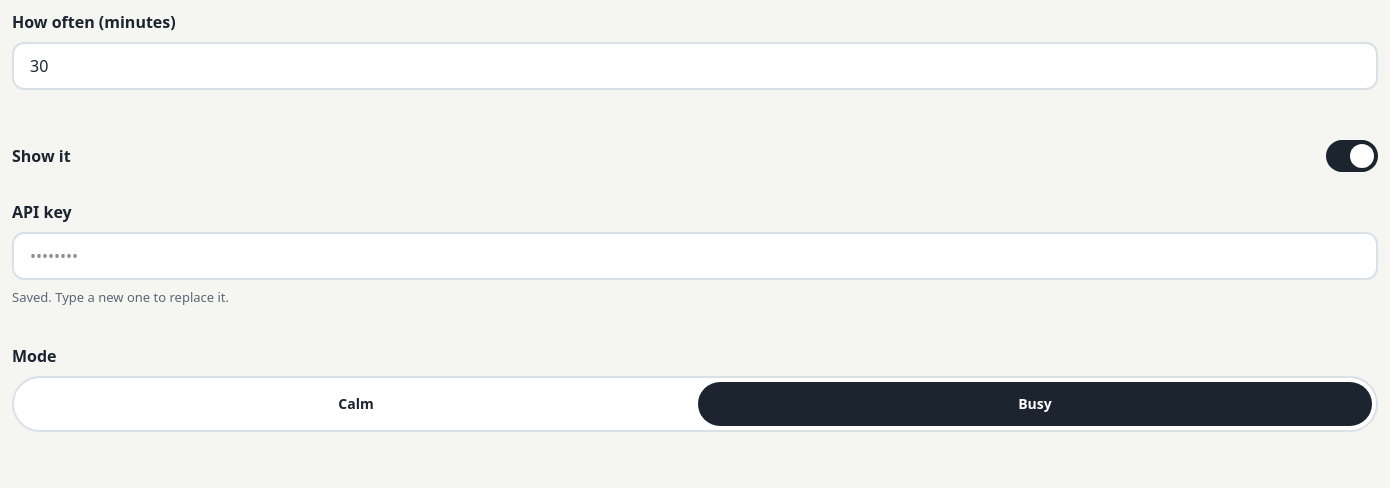
it: settings that save themselves › lists a refused value's problems under the form, and keeps what was typed
Replace the text in the field labelled "How often (minutes)" with "0" at (695,66), box [12,42,1378,90]
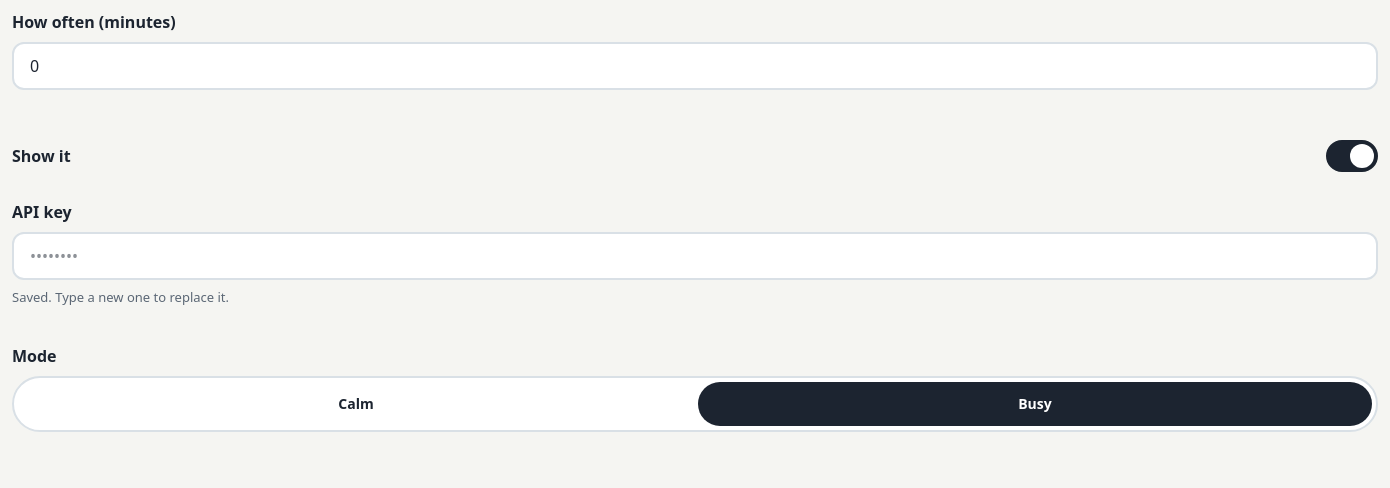
Leave the field labelled "How often (minutes)", box [12,42,1378,90]
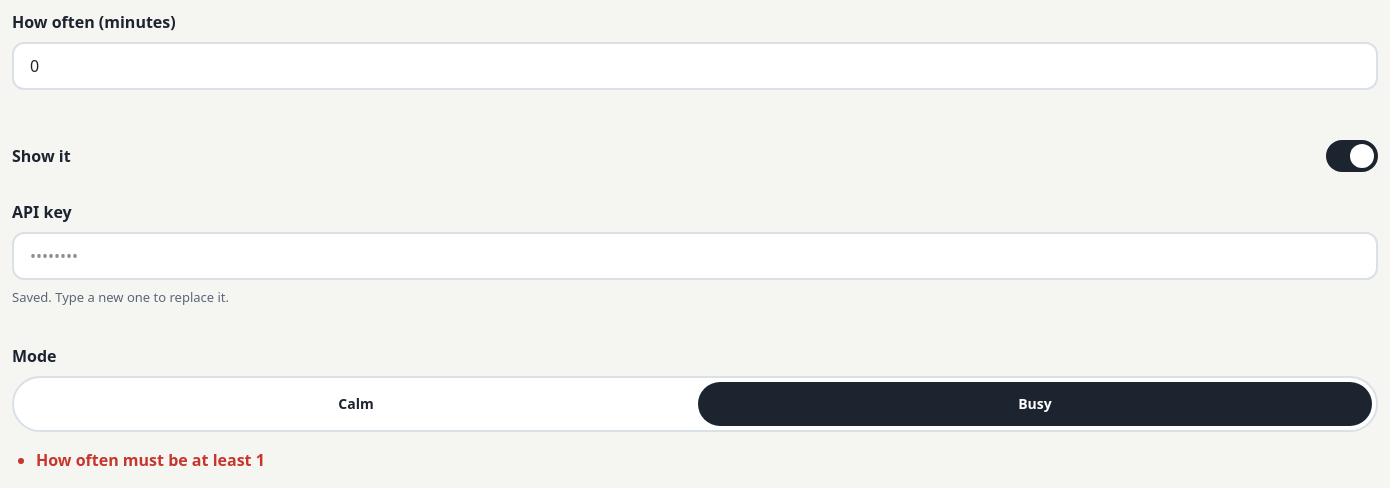
Expected: the message reads "How often must be at least 1", [36,449,265,471]
